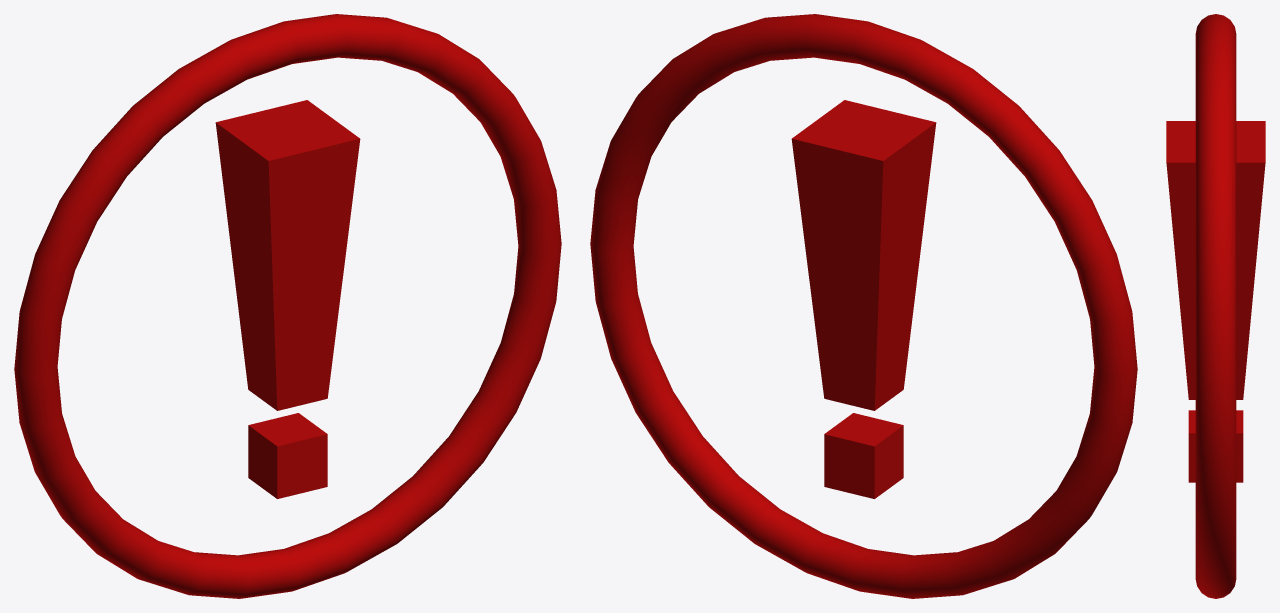
Rendered from exclamation_point.FBX.
3 renders of one model, left to right at view 1: azimuth 30°, elevation 25°; view 2: azimuth 150°, elevation 25°; view 3: azimuth 270°, elevation 25°, orthographic. The views are drawn at different scales.
Parts seen in each view (by area): view 1: circle, Box001, Box002; view 2: circle, Box001, Box002; view 3: circle, Box001, Box002.
Boxes of the visible parts, bbox=[...] form: circle: bbox=[14, 14, 561, 598]; Box001: bbox=[215, 100, 360, 410]; Box002: bbox=[248, 413, 327, 498]; circle: bbox=[590, 14, 1137, 598]; Box001: bbox=[791, 100, 936, 410]; Box002: bbox=[824, 413, 903, 498]; circle: bbox=[1195, 14, 1236, 598]; Box001: bbox=[1166, 121, 1265, 399]; Box002: bbox=[1188, 410, 1243, 482].
Bounding box in the file's own units: 86 × 86 × 14.56.
